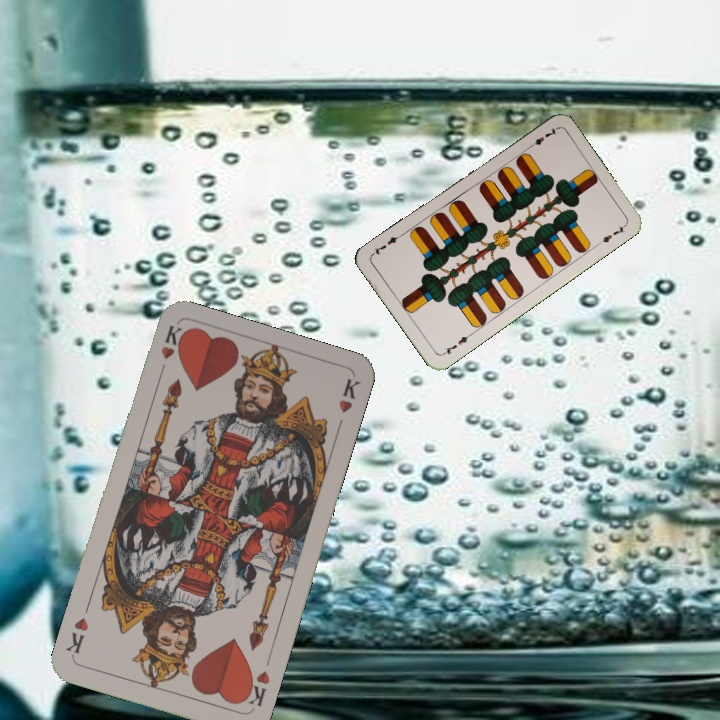E7: (438, 330, 474, 358), (524, 124, 559, 152)
HK: (154, 321, 186, 380), (239, 667, 273, 712)
